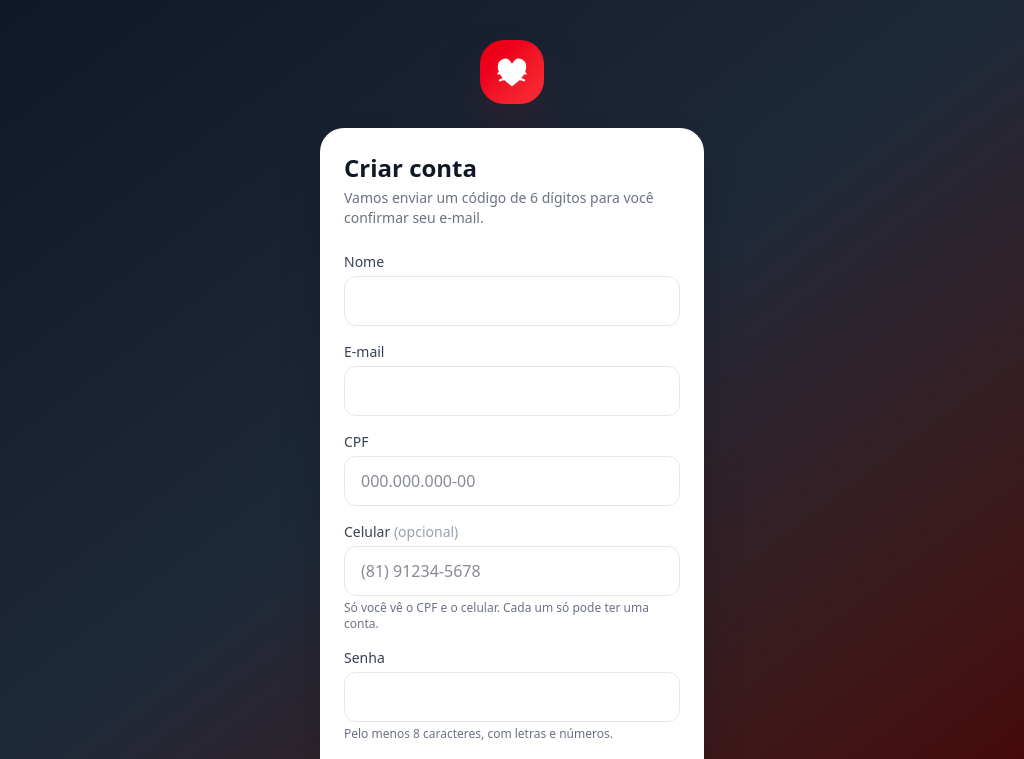
it: SignupPage › o CPF e o celular formatam-se enquanto se escrevem
This screenshot has width=1024, height=759.
Type "52998224725" into the field labelled "CPF".
click(512, 481); type("52998224725")  # box [344,456,680,506]
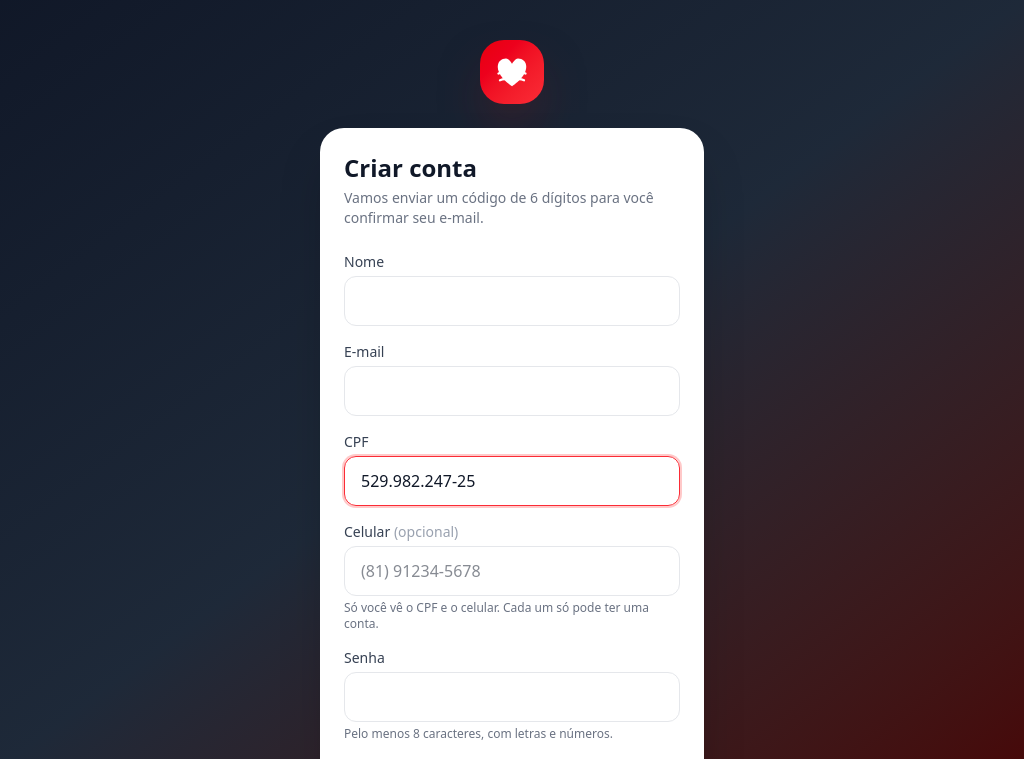
Type "81912345678" into the field labelled "Celular (opcional)".
click(512, 571); type("81912345678")  # box [344,546,680,596]
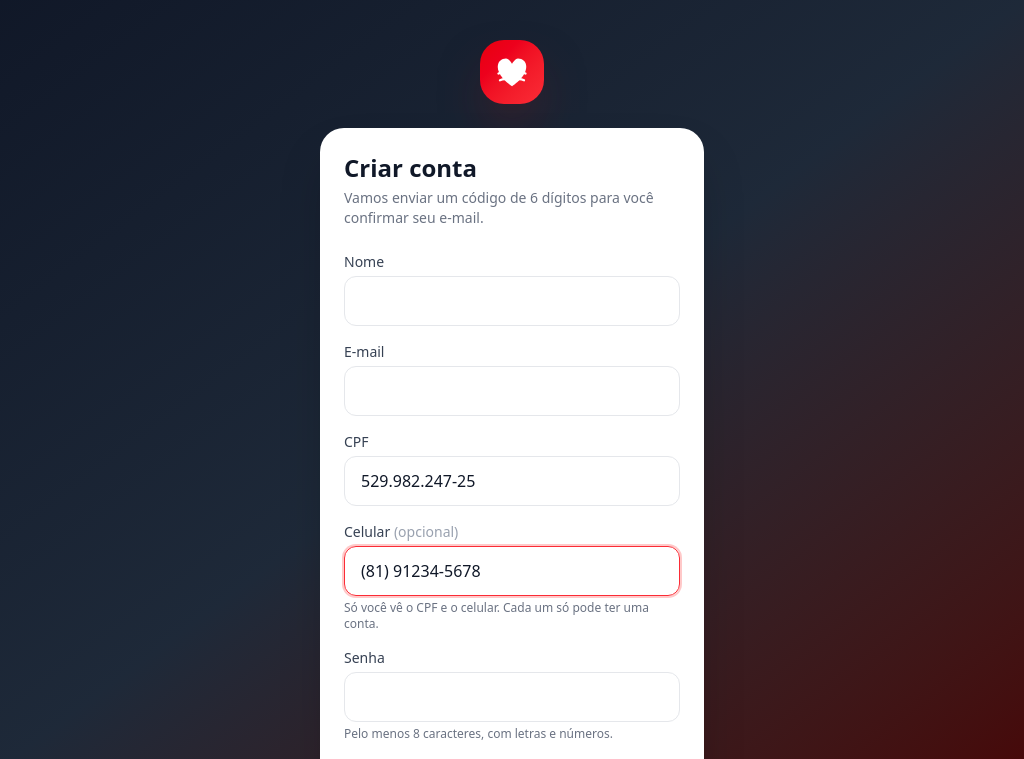
Now the field labelled "CPF" holds "529.982.247-25", box [344,456,680,506]
Now the field labelled "Celular (opcional)" holds "(81) 91234-5678", box [344,546,680,596]
